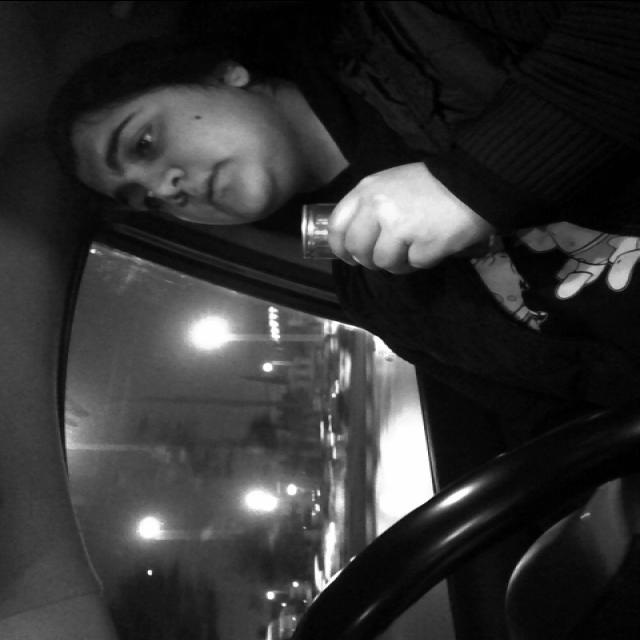drinking: (290, 201, 466, 269)
